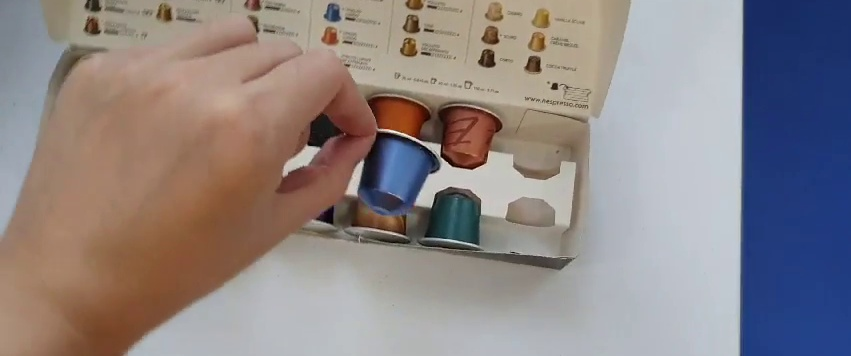capsule_7: (354, 126, 445, 213)
